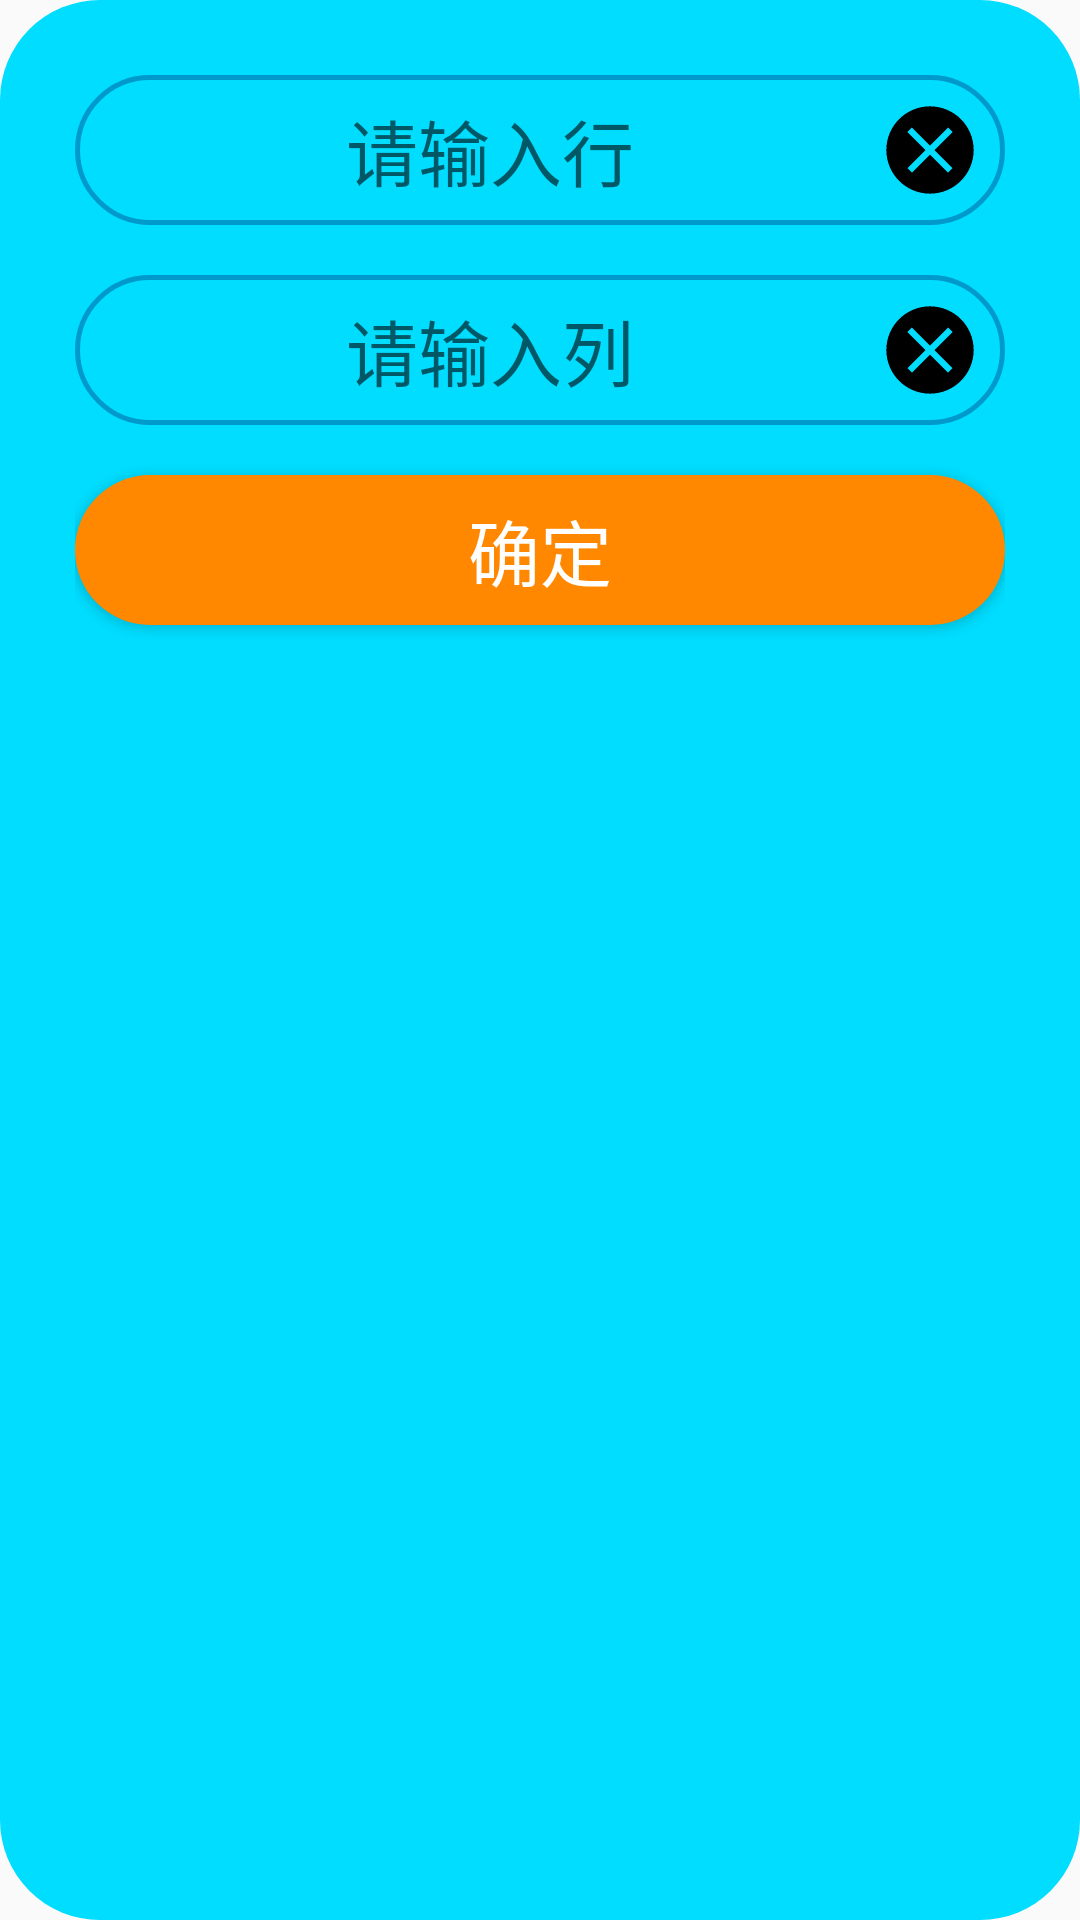

Screen size 1080*1920. Icon name, then its box in pixels as rect(x1, y1, x2, y2):
clear: rect(886, 106, 974, 194), rect(886, 306, 974, 394)
